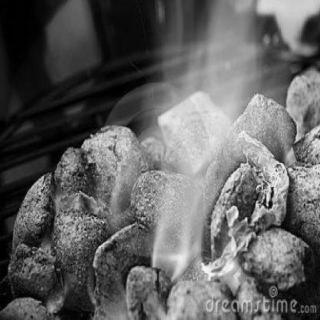Fire: (113, 7, 283, 294)
